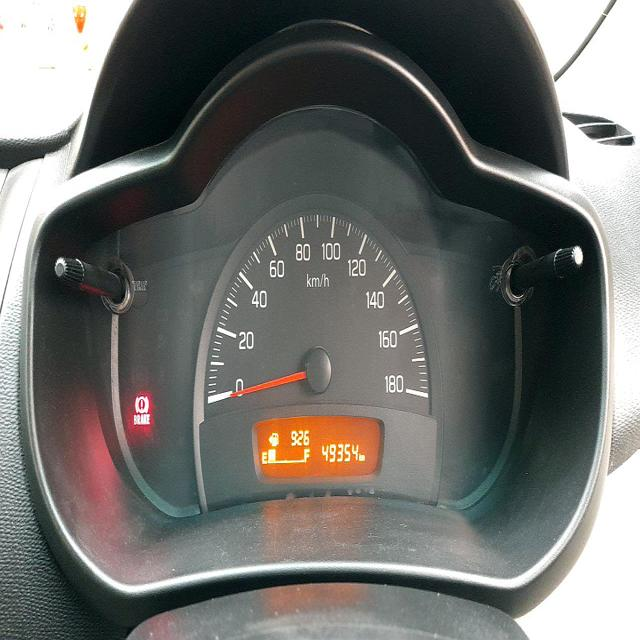odometer: (318, 439, 361, 470)
